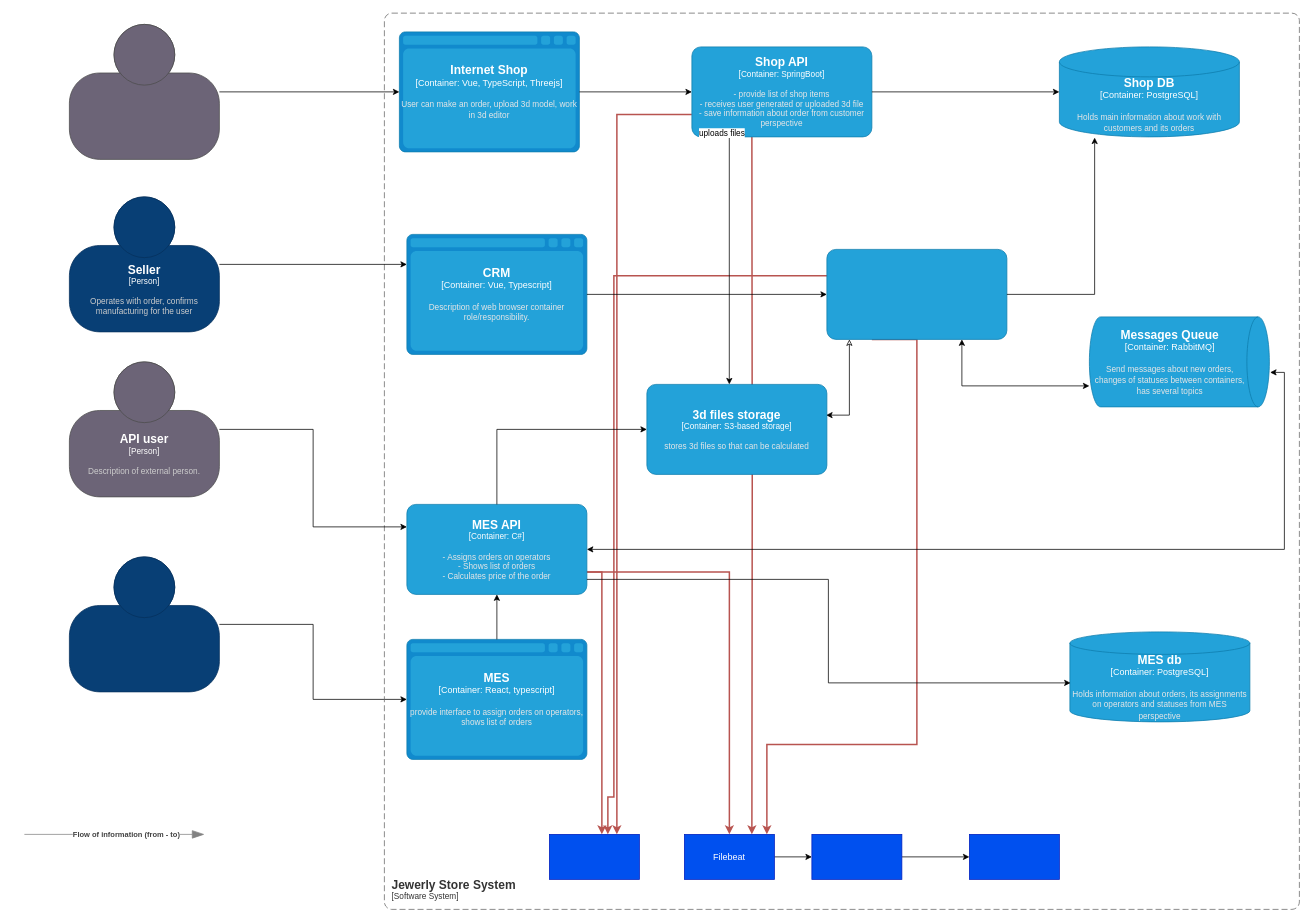
This 1313x923 diagram has some shape labels left out. The centre of each missing label's shape, as x and y in pixels:
"CRM API [Container: SpringBoot] Description of container role/responsibility." goes at pixel 916 294.
"Customer [Person] Description of external person." goes at pixel 144 91.
"Jeager" goes at pixel 594 856.
"Logstash" goes at pixel 856 856.
"OpenSearch" goes at pixel 1014 856.
"Operator [Person] Takes order in work, manufactures jewerly" goes at pixel 144 624.
